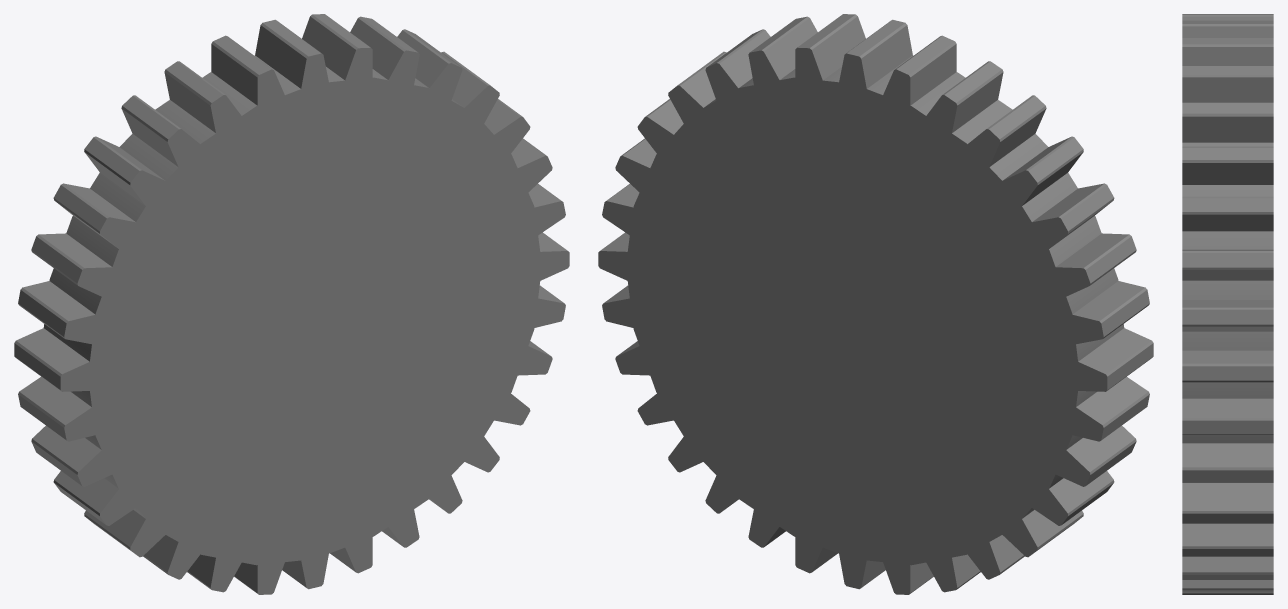
The model's file is gear32_01.fbx.
The picture shows the model from 3 angles, left to right: view 1: azimuth 30°, elevation 25°; view 2: azimuth 150°, elevation 25°; view 3: azimuth 270°, elevation 25°; orthographic projection.
Visible parts, largest first — view 1: polySurface14, polySurface26, polySurface27, polySurface33, polySurface18, polySurface28, polySurface32, polySurface19, polySurface20, polySurface25, polySurface24, polySurface29 (+5 smaller); view 2: polySurface14, polySurface33, polySurface27, polySurface32, polySurface18, polySurface28, polySurface26, polySurface20, polySurface19, polySurface25, polySurface29, polySurface31 (+5 smaller); view 3: polySurface14, polySurface24, polySurface32, polySurface25, polySurface31, polySurface26, polySurface33, polySurface30, polySurface23, polySurface27, polySurface28, polySurface29 (+5 smaller).
Boxes of the visible parts, x1=… form: polySurface14: x1=43, y1=55, x2=541, y2=565; polySurface26: x1=14, y1=232, x2=569, y2=391; polySurface27: x1=18, y1=184, x2=565, y2=441; polySurface33: x1=234, y1=14, x2=372, y2=594; polySurface18: x1=255, y1=19, x2=329, y2=589; polySurface28: x1=31, y1=138, x2=552, y2=486; polySurface32: x1=187, y1=16, x2=419, y2=592; polySurface19: x1=211, y1=35, x2=372, y2=573; polySurface20: x1=164, y1=61, x2=419, y2=547; polySurface25: x1=18, y1=281, x2=565, y2=344; polySurface24: x1=31, y1=233, x2=552, y2=375; polySurface29: x1=53, y1=99, x2=530, y2=525; polySurface14: x1=626, y1=55, x2=1124, y2=565; polySurface33: x1=795, y1=14, x2=933, y2=594; polySurface27: x1=602, y1=184, x2=1149, y2=441; polySurface32: x1=748, y1=16, x2=980, y2=592; polySurface18: x1=838, y1=19, x2=912, y2=589; polySurface28: x1=615, y1=138, x2=1136, y2=486; polySurface26: x1=598, y1=232, x2=1153, y2=391; polySurface20: x1=748, y1=61, x2=1003, y2=547; polySurface19: x1=795, y1=35, x2=956, y2=573; polySurface25: x1=602, y1=281, x2=1149, y2=344; polySurface29: x1=637, y1=99, x2=1114, y2=525; polySurface31: x1=705, y1=29, x2=1024, y2=579; polySurface14: x1=1182, y1=142, x2=1273, y2=443; polySurface24: x1=1182, y1=483, x2=1273, y2=523; polySurface32: x1=1182, y1=102, x2=1273, y2=142; polySurface25: x1=1182, y1=443, x2=1273, y2=482; polySurface31: x1=1182, y1=146, x2=1273, y2=184; polySurface26: x1=1182, y1=398, x2=1273, y2=434; polySurface33: x1=1182, y1=66, x2=1273, y2=102; polySurface30: x1=1182, y1=196, x2=1273, y2=231; polySurface23: x1=1182, y1=523, x2=1273, y2=556; polySurface27: x1=1182, y1=350, x2=1273, y2=382; polySurface28: x1=1182, y1=300, x2=1273, y2=331; polySurface29: x1=1182, y1=249, x2=1273, y2=280.
Size of the model in its own units: 3.18 by 3.18 by 0.5.
